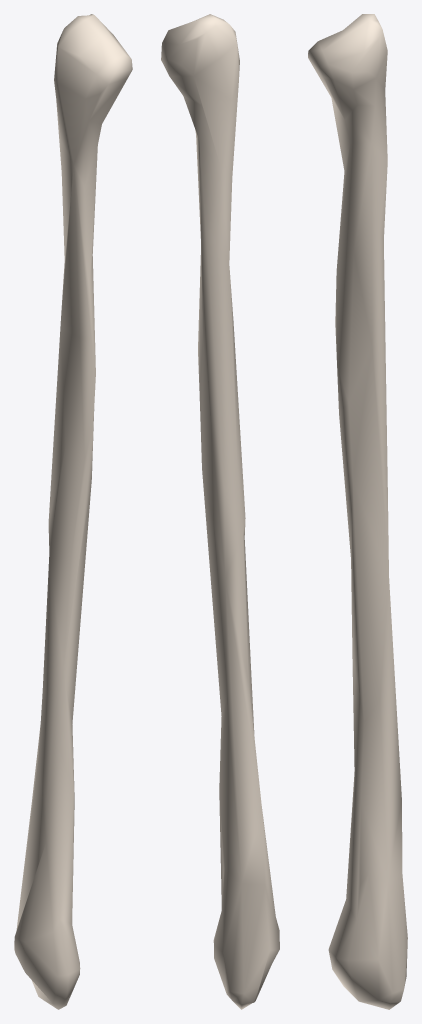
The model's file is left_fibula.glb.
The picture shows the model from 3 angles, left to right: view 1: azimuth 30°, elevation 25°; view 2: azimuth 210°, elevation 25°; view 3: azimuth 270°, elevation 25°; orthographic projection.
Parts seen in each view (by area): view 1: Fibula.r; view 2: Fibula.r; view 3: Fibula.r.
Boxes of the visible parts, left/top/right/bottom form: Fibula.r: left=14, top=14, right=132, bottom=1009; Fibula.r: left=161, top=14, right=279, bottom=1009; Fibula.r: left=308, top=14, right=407, bottom=1009.
Bounding box in the file's own units: 0.0347 × 0.3601 × 0.0324.
